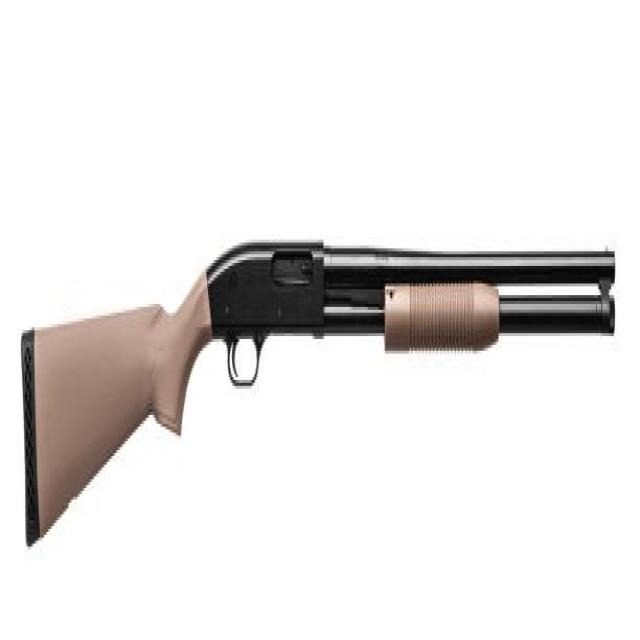rifle: (14, 224, 626, 583)
